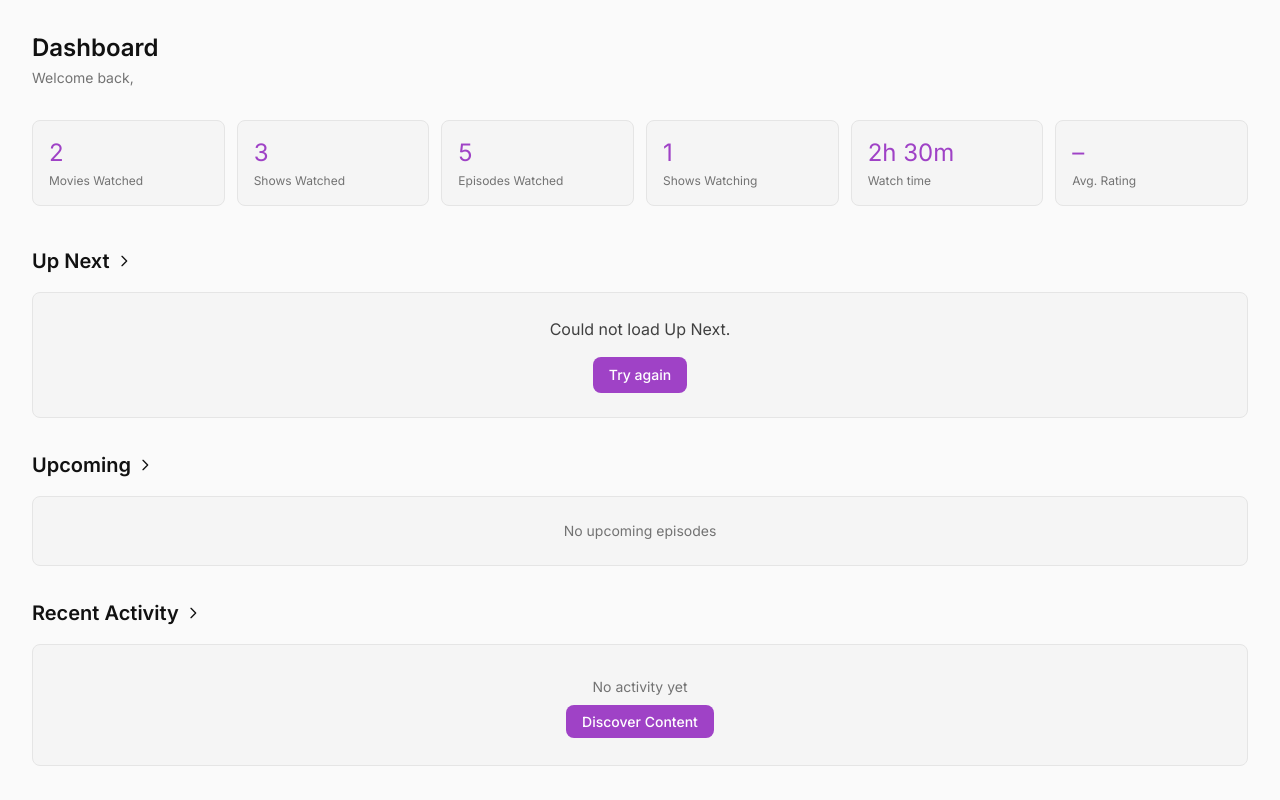
Test: DashboardView › shows a section error instead of the empty state and retries
expect the text "My Shows is empty" is not shown: met
Click the button "Try again" at x=640, y=375, box top-left (593, 357), bottom-right (687, 393)
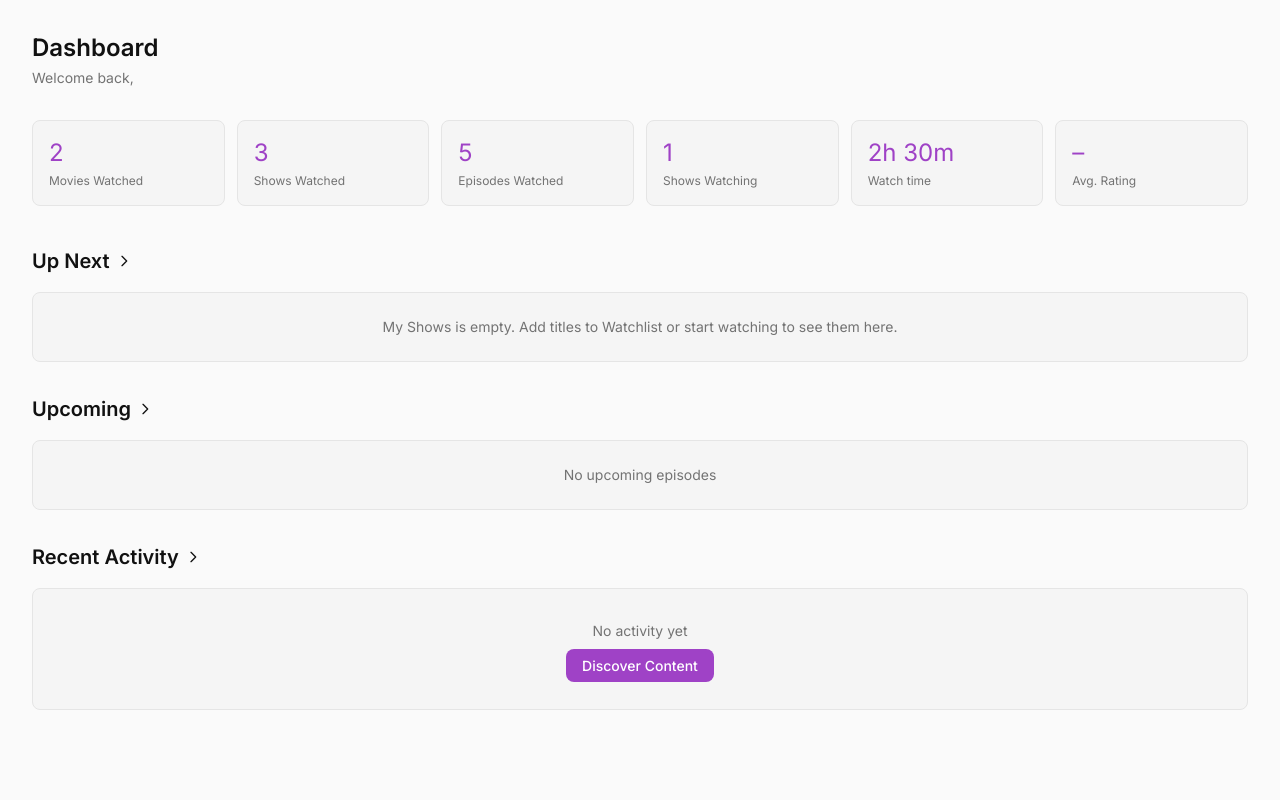
expect the text "Could not load Up Next." is gone: met
expect the text "My Shows is empty" is shown: met, box top-left (383, 318), bottom-right (898, 335)
